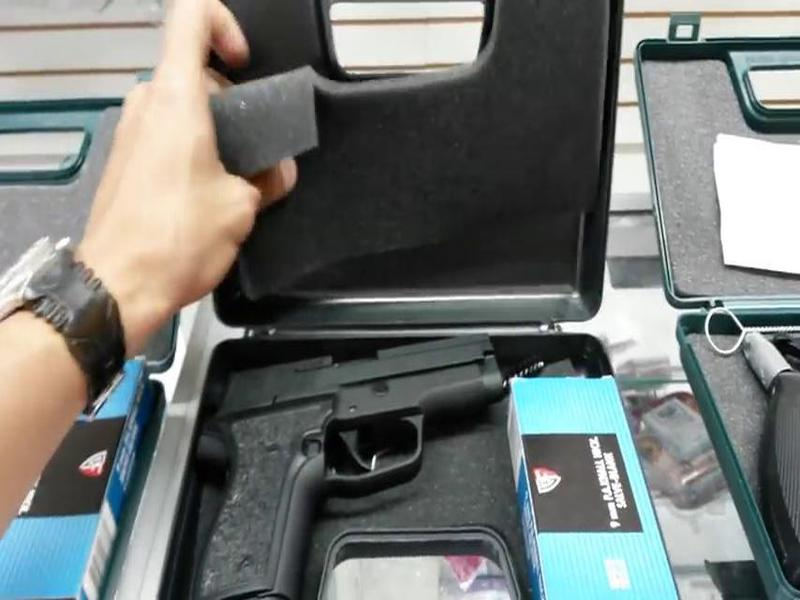Pistola: (194, 338, 515, 592)
